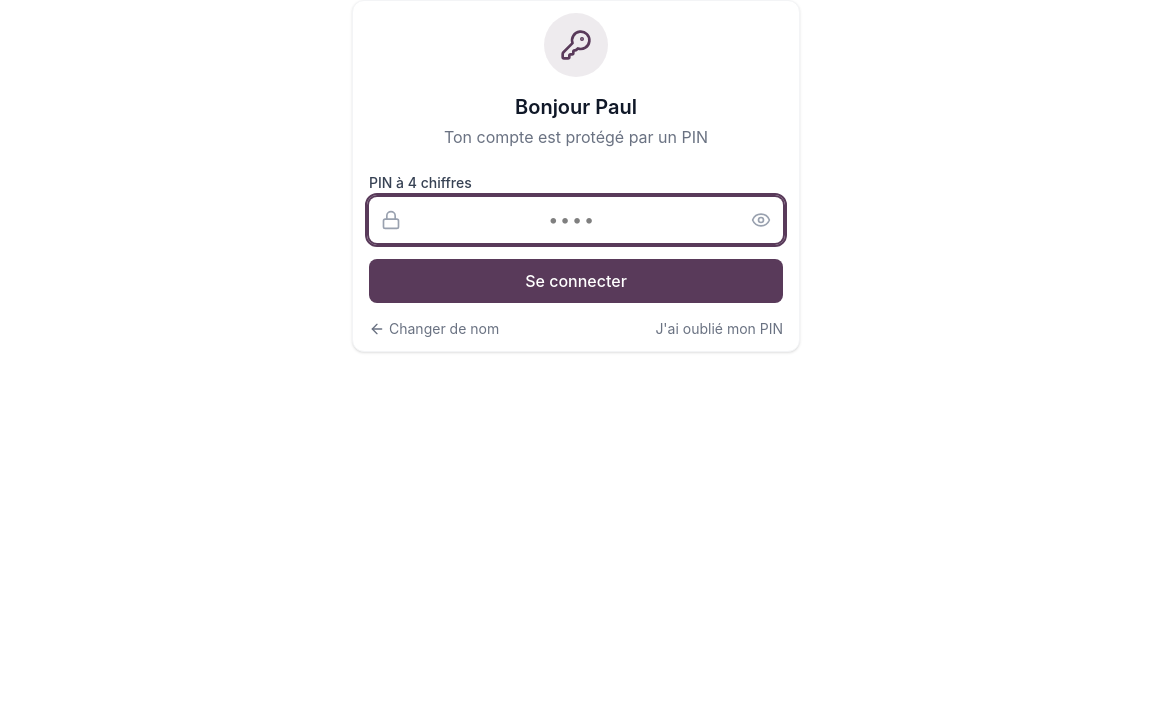
Scenario: SecurityModal — profil AVEC PIN › refuse un ancien PIN incorrect
Type "1111" into the password field labelled "PIN à 4 chiffres" at (576, 220), box [369,197,783,243]
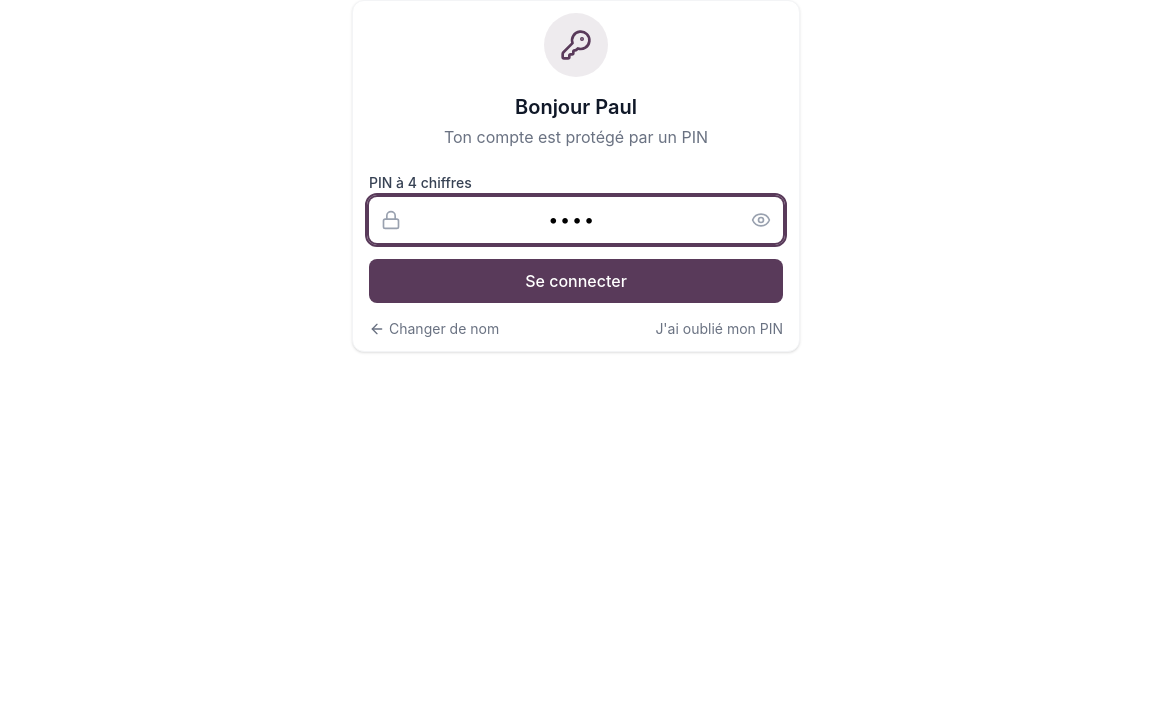
Click the button "Se connecter" at (576, 281), box [369,259,783,303]
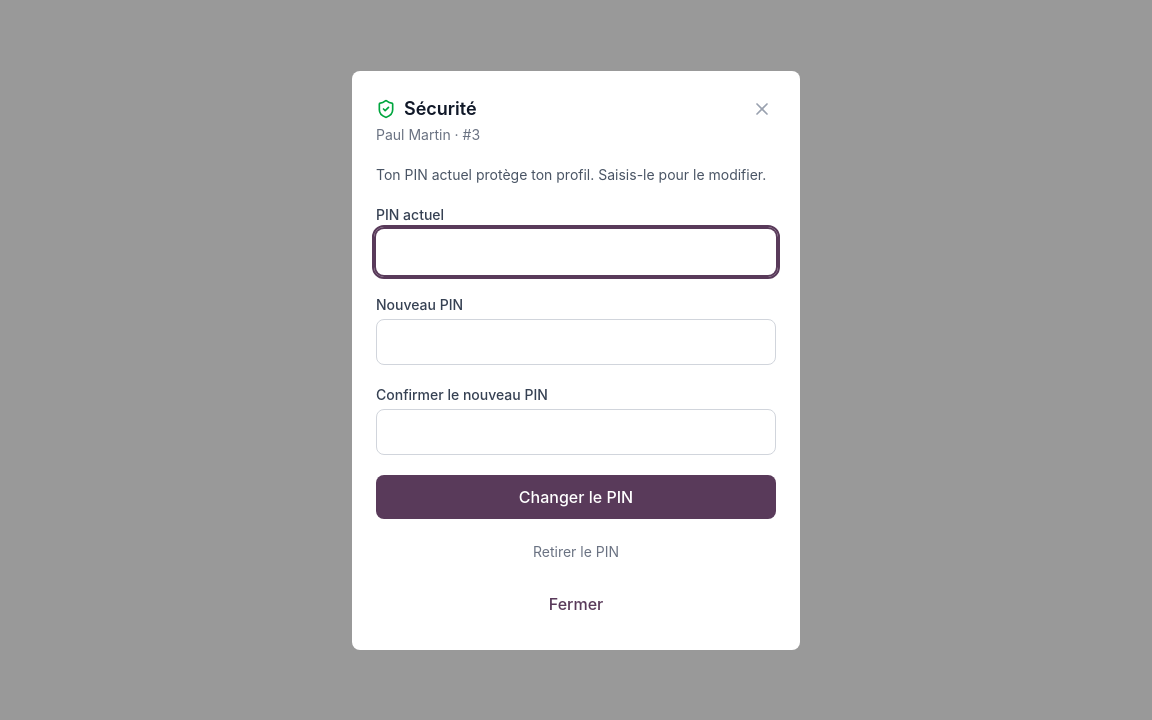
Type "0000" into the password field labelled "PIN actuel" at (576, 252), box [376,228,776,274]
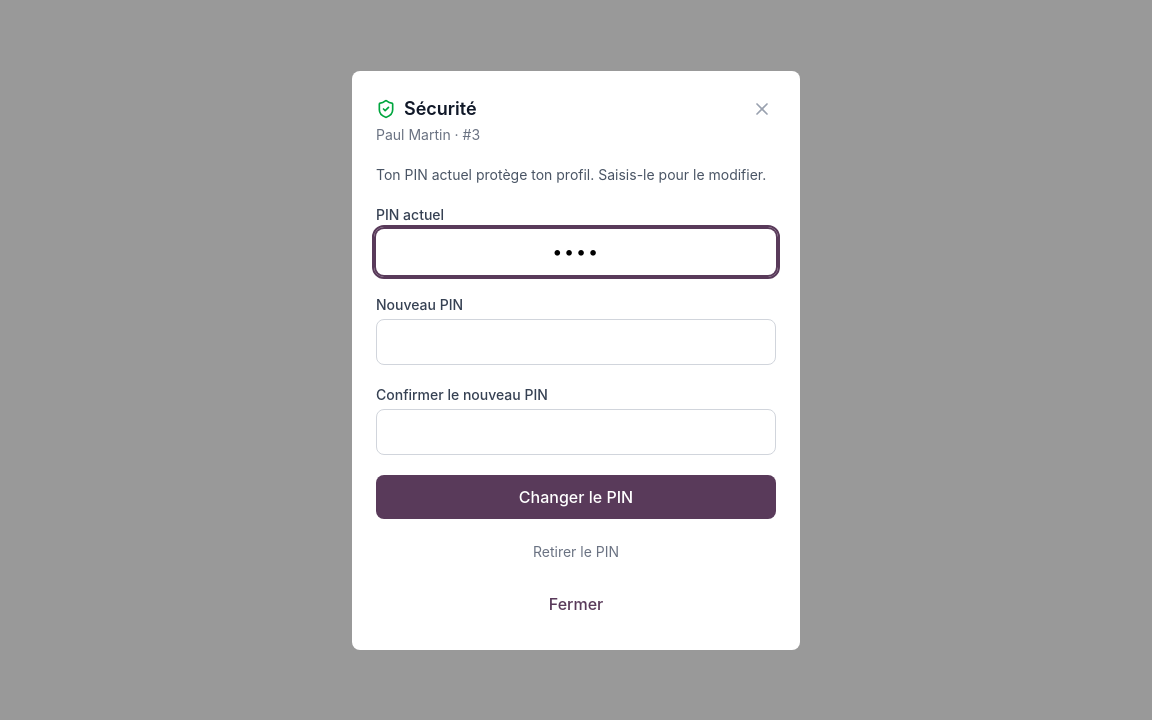
Type "5678" into the password field labelled "Nouveau PIN" at (576, 342), box [376,318,776,364]
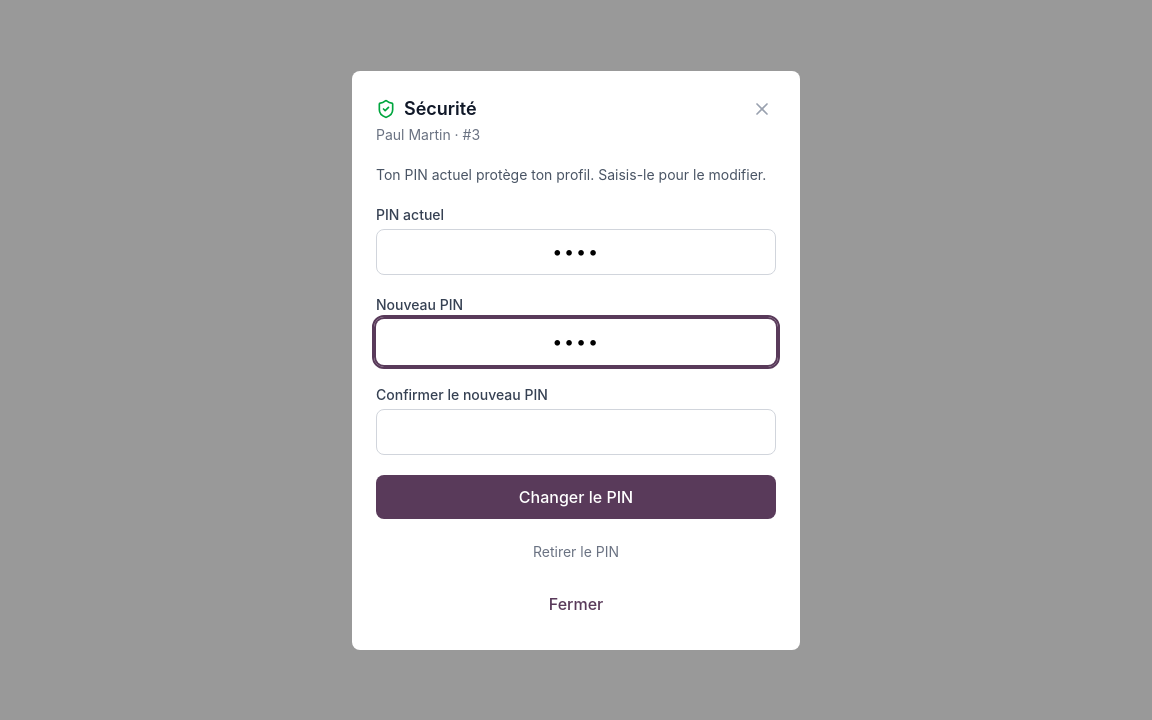
Type "5678" into the password field labelled "Confirmer le nouveau PIN" at (576, 432), box [376,408,776,454]
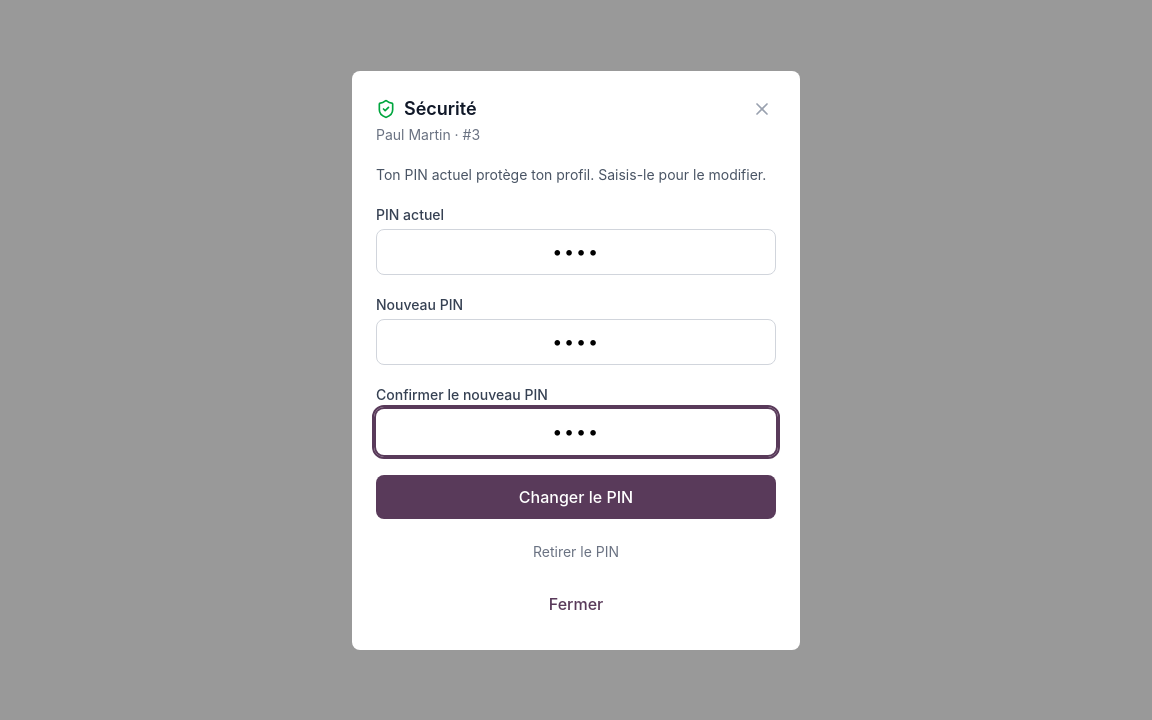
Click the button "Changer le PIN" at (576, 496), box [376,474,776,518]
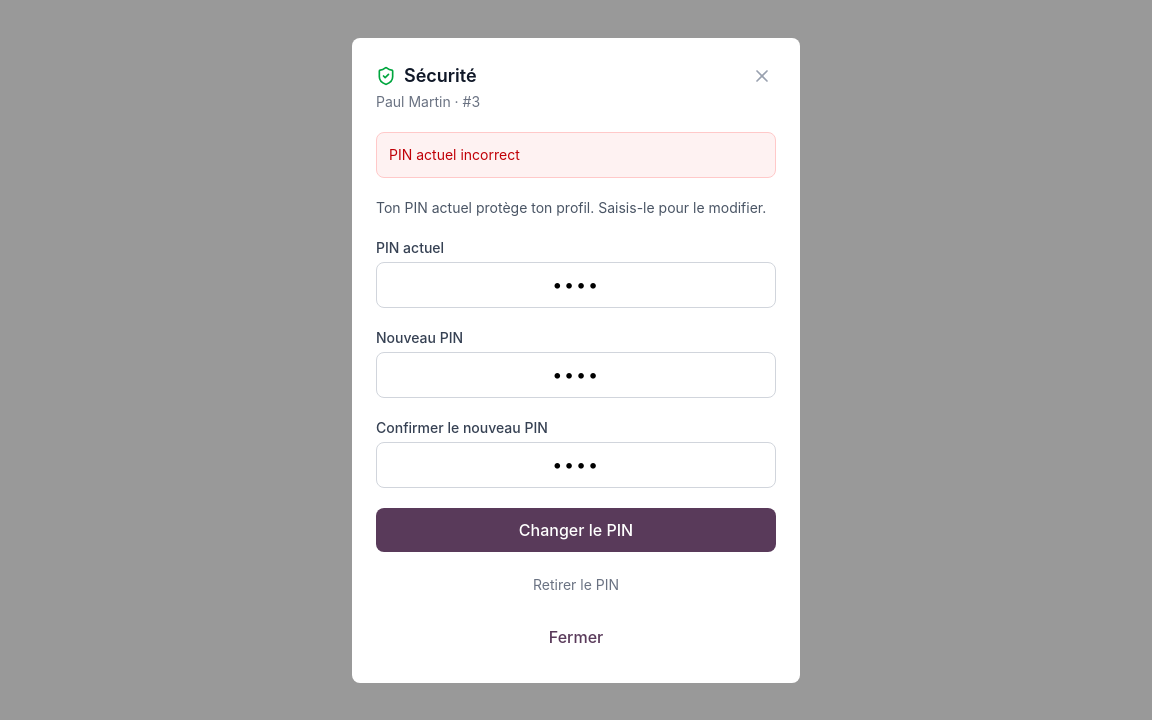
Now the text "PIN actuel incorrect" is shown, box [376,132,776,178]
